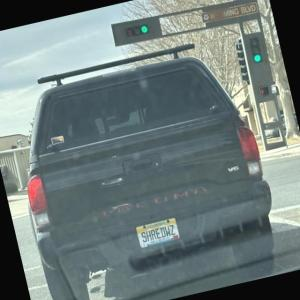Plate: (134, 217, 181, 250)
